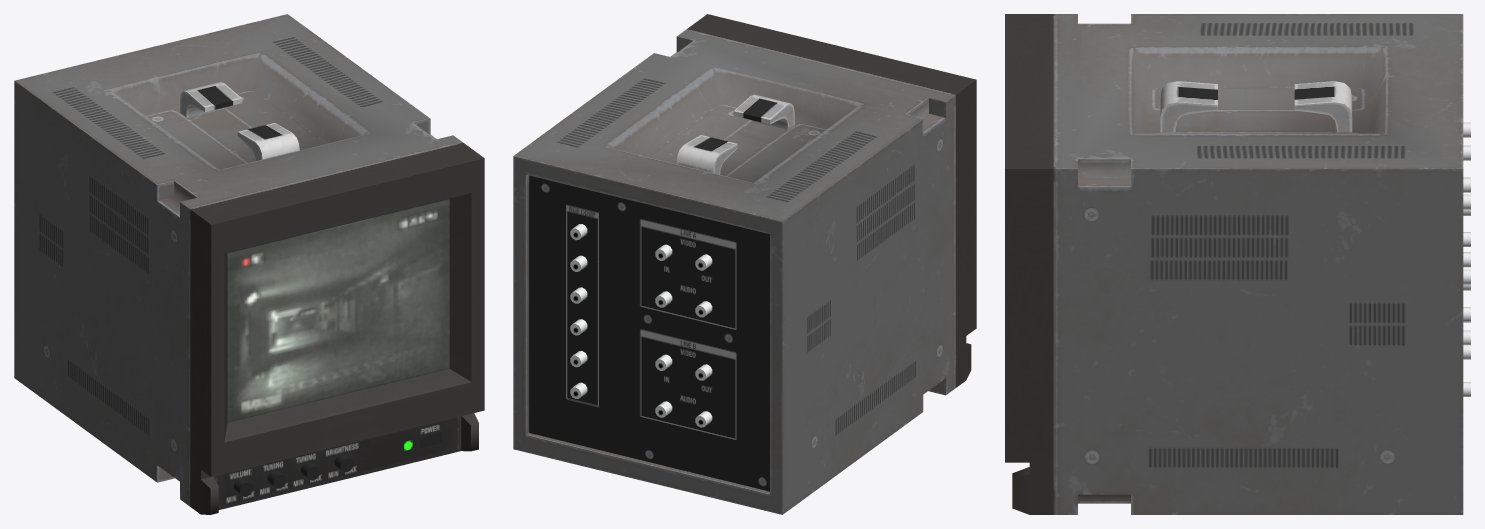
File: SM_CCTV_Monitor_02.fbx
The picture shows the model from 3 angles, left to right: view 1: azimuth 30°, elevation 25°; view 2: azimuth 150°, elevation 25°; view 3: azimuth 270°, elevation 25°; orthographic projection. The views are drawn at different scales.
Visible parts, largest first — view 1: SM_CCTV_Monitor_02; view 2: SM_CCTV_Monitor_02; view 3: SM_CCTV_Monitor_02.
Boxes of the visible parts, bbox=[...] form: SM_CCTV_Monitor_02: bbox=[14, 14, 484, 514]; SM_CCTV_Monitor_02: bbox=[513, 14, 976, 514]; SM_CCTV_Monitor_02: bbox=[1005, 14, 1470, 514].
Bounding box in the file's own units: 43.24 × 54.9 × 45.
1 material, 1 textured.
